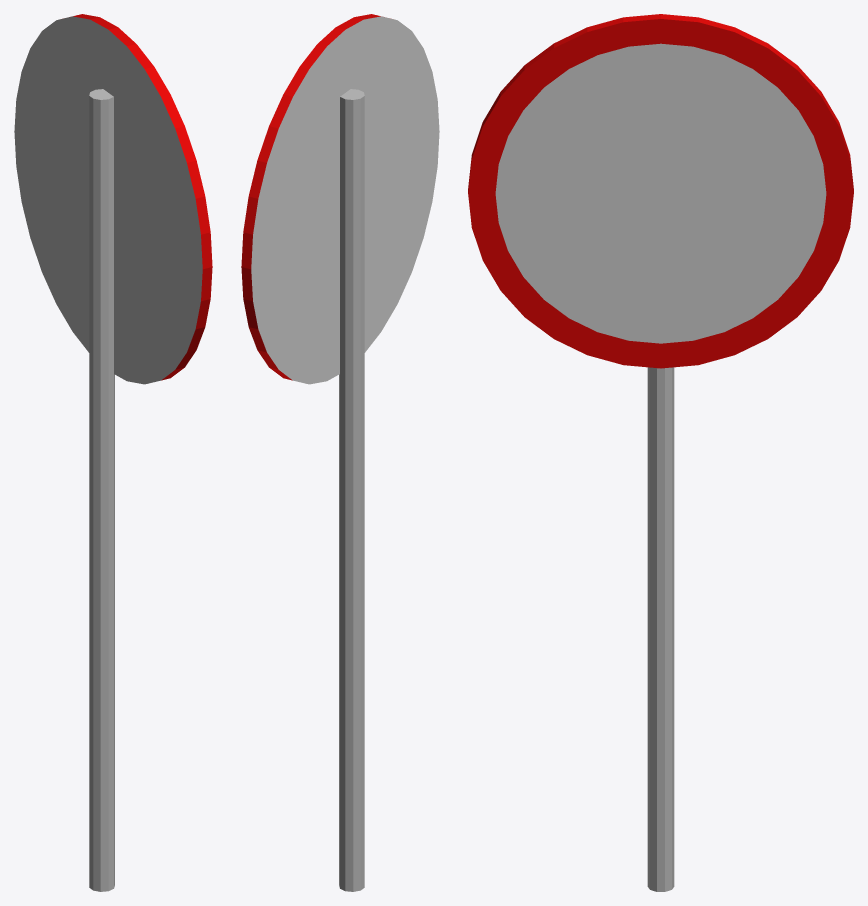
Rendered from Sign_01.fbx.
3 views of the same model, side by side, from view 1: azimuth 30°, elevation 25°; view 2: azimuth 150°, elevation 25°; view 3: azimuth 270°, elevation 25° (orthographic). The views are drawn at different scales.
Visible parts, largest first — view 1: Cylinder.001; view 2: Cylinder.001; view 3: Cylinder.001.
Part boxes in pixels (x1,y1,x2,y2): Cylinder.001: (14, 14, 212, 891); Cylinder.001: (241, 14, 439, 891); Cylinder.001: (468, 14, 853, 891).
Bounding box in the file's own units: 7.17 × 216 × 86.2.
